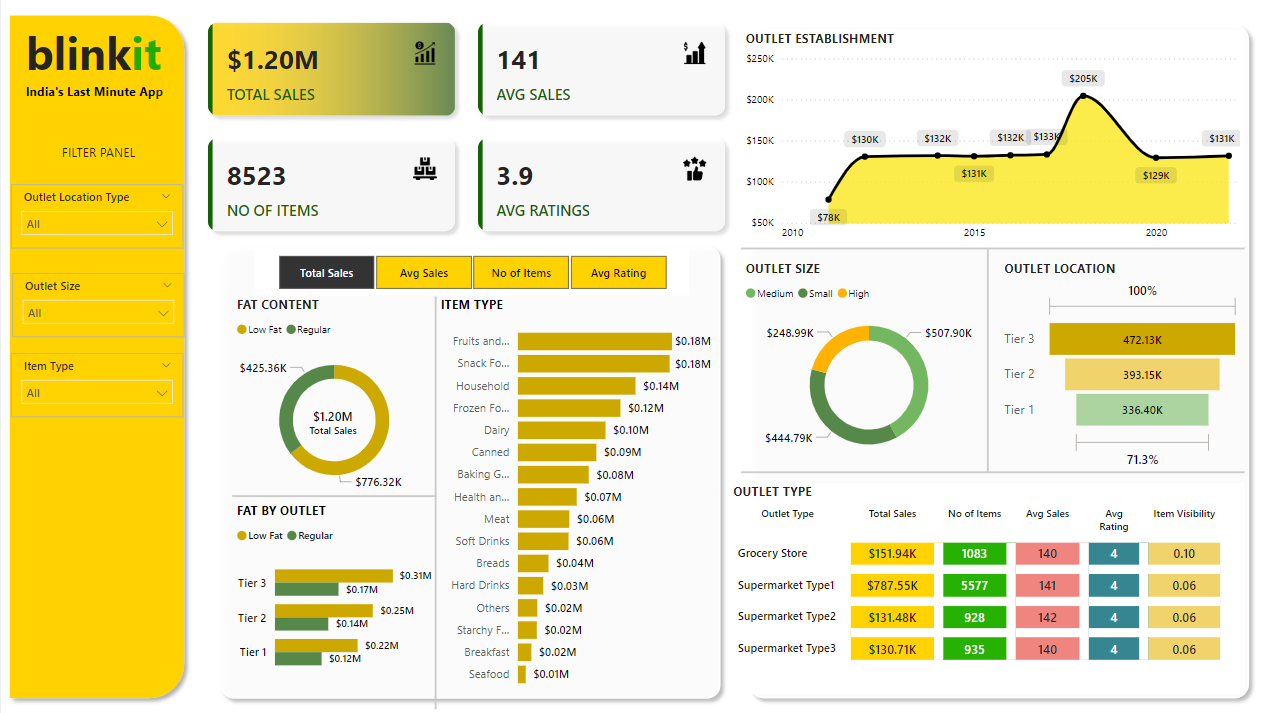

What the dashboard file says about the page in this screenshot:
{"tool":"powerbi","page":{"name":"Page 1","canvas":[1400,800],"ordinal":0},"visuals":[{"type":"shape","box":[0,25.5,205.6,750.4],"z":0},{"type":"textbox","box":[21,36,163.6,82.5],"z":1000},{"type":"textbox","box":[21,102.1,205.6,28.5],"z":2000},{"type":"cardVisual","fields":{"Data":["BlinkIT Grocery Data.Total Sales","BlinkIT Grocery Data.Avg Sales","BlinkIT Grocery Data.No of Items","BlinkIT Grocery Data.Avg Rating"]},"box":[205.6,25.5,588.3,259.6],"z":3000},{"type":"shape","box":[226.6,273.2,553.8,502.8],"z":4000},{"type":"donutChart","title":"FAT CONTENT","fields":{"Y":["BlinkIT Grocery Data.Total Sales"],"Category":["BlinkIT Grocery Data.Item Fat Content"]},"box":[247.6,334.7,219.1,222.1],"z":5000},{"type":"slicer","fields":{"Values":["Matrix.Matrix"]},"box":[271.7,285.2,465.3,49.5],"z":6000},{"type":"cardVisual","fields":{"Data":["BlinkIT Grocery Data.Total Sales"]},"box":[289.7,438.3,133.6,52.5],"z":7000},{"type":"clusteredBarChart","title":"FAT BY OUTLET","fields":{"Y":["BlinkIT Grocery Data.Total Sales"],"Category":["BlinkIT Grocery Data.Outlet Location Type"],"Series":["BlinkIT Grocery Data.Item Fat Content"]},"box":[247.6,556.8,219.1,196.6],"z":8000},{"type":"shape","box":[247.6,544.8,219.1,12],"z":9000},{"type":"shape","box":[457.8,336.2,18,442.8],"z":10000},{"type":"barChart","title":"ITEM TYPE","fields":{"Y":["BlinkIT Grocery Data.Total Sales"],"Category":["BlinkIT Grocery Data.Item Type"]},"box":[466.8,334.7,300.2,430.7],"z":11000},{"type":"shape","box":[794,36,553.8,739.9],"z":11001},{"type":"lineChart","title":"OUTLET ESTABLISHMENT","fields":{"Category":["BlinkIT Grocery Data.Outlet Establishment Year"],"Y":["BlinkIT Grocery Data.Total Sales"]},"box":[794,49.5,540.3,235.6],"z":11002},{"type":"shape","box":[794,273.2,540.3,22.5],"z":11003},{"type":"donutChart","title":"OUTLET SIZE","fields":{"Y":["BlinkIT Grocery Data.Total Sales"],"Category":["BlinkIT Grocery Data.Outlet Size"]},"box":[794,295.7,275,225],"z":11004},{"type":"shape","box":[1052.1,285.2,12,240.1],"z":11005},{"type":"funnel","title":"OUTLET LOCATION","fields":{"Y":["Sum(BlinkIT Grocery Data.Sales)"],"Category":["BlinkIT Grocery Data.Outlet Location Type"]},"box":[1071.6,295.7,262.7,229.6],"z":11006},{"type":"shape","box":[794,513.3,540.3,22.5],"z":11007},{"type":"pivotTable","title":"OUTLET TYPE","fields":{"Values":["BlinkIT Grocery Data.Total Sales","BlinkIT Grocery Data.No of Items","BlinkIT Grocery Data.Avg Sales","BlinkIT Grocery Data.Avg Rating","Avg(BlinkIT Grocery Data.Item Visibility)"],"Rows":["BlinkIT Grocery Data.Outlet Type"]},"box":[780.4,535.8,553.8,226.6],"z":11008},{"type":"slicer","fields":{"Values":["BlinkIT Grocery Data.Outlet Location Type"]},"box":[10.5,216.1,184.6,69],"z":11009},{"type":"slicer","fields":{"Values":["BlinkIT Grocery Data.Outlet Size"]},"box":[12,310.7,184.6,69],"z":11010},{"type":"slicer","fields":{"Values":["BlinkIT Grocery Data.Item Type"]},"box":[10.5,396.2,184.6,69],"z":11011},{"type":"textbox","box":[46.5,168.1,115.6,28.5],"z":11012}]}

Visuals, with their boxes in screenshot pixels (x1, y1, x2, y2), scaled from the page's 1400x800 canvas onto the 1265x713 screenshot:
shape: left=0, top=23, right=186, bottom=692
textbox: left=19, top=32, right=167, bottom=106
textbox: left=19, top=91, right=205, bottom=116
cardVisual - BlinkIT Grocery Data.Total Sales x BlinkIT Grocery Data.Avg Sales: left=186, top=23, right=717, bottom=254
shape: left=205, top=243, right=705, bottom=692
"FAT CONTENT" donutChart: left=224, top=298, right=422, bottom=496
slicer - Matrix.Matrix: left=246, top=254, right=666, bottom=298
cardVisual - BlinkIT Grocery Data.Total Sales: left=262, top=391, right=382, bottom=437
"FAT BY OUTLET" clusteredBarChart: left=224, top=496, right=422, bottom=671
shape: left=224, top=486, right=422, bottom=496
shape: left=414, top=300, right=430, bottom=694
"ITEM TYPE" barChart: left=422, top=298, right=693, bottom=682
shape: left=717, top=32, right=1218, bottom=692
"OUTLET ESTABLISHMENT" lineChart: left=717, top=44, right=1206, bottom=254
shape: left=717, top=243, right=1206, bottom=264
"OUTLET SIZE" donutChart: left=717, top=264, right=966, bottom=464
shape: left=951, top=254, right=961, bottom=468
"OUTLET LOCATION" funnel: left=968, top=264, right=1206, bottom=468
shape: left=717, top=457, right=1206, bottom=478
"OUTLET TYPE" pivotTable: left=705, top=478, right=1206, bottom=679
slicer - BlinkIT Grocery Data.Outlet Location Type: left=9, top=193, right=176, bottom=254
slicer - BlinkIT Grocery Data.Outlet Size: left=11, top=277, right=178, bottom=338
slicer - BlinkIT Grocery Data.Item Type: left=9, top=353, right=176, bottom=415
textbox: left=42, top=150, right=146, bottom=175
